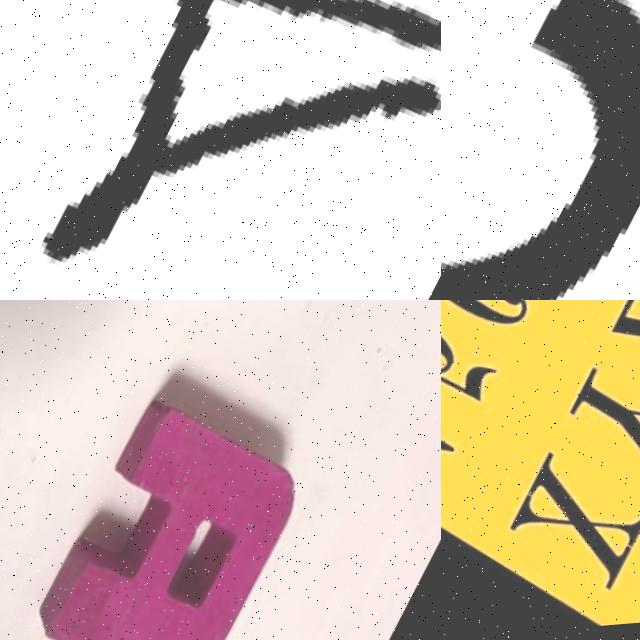4: (441, 340, 481, 498)
5: (441, 300, 521, 431)
6: (441, 300, 549, 359)
A: (24, 380, 320, 640)
C: (441, 0, 640, 300)
